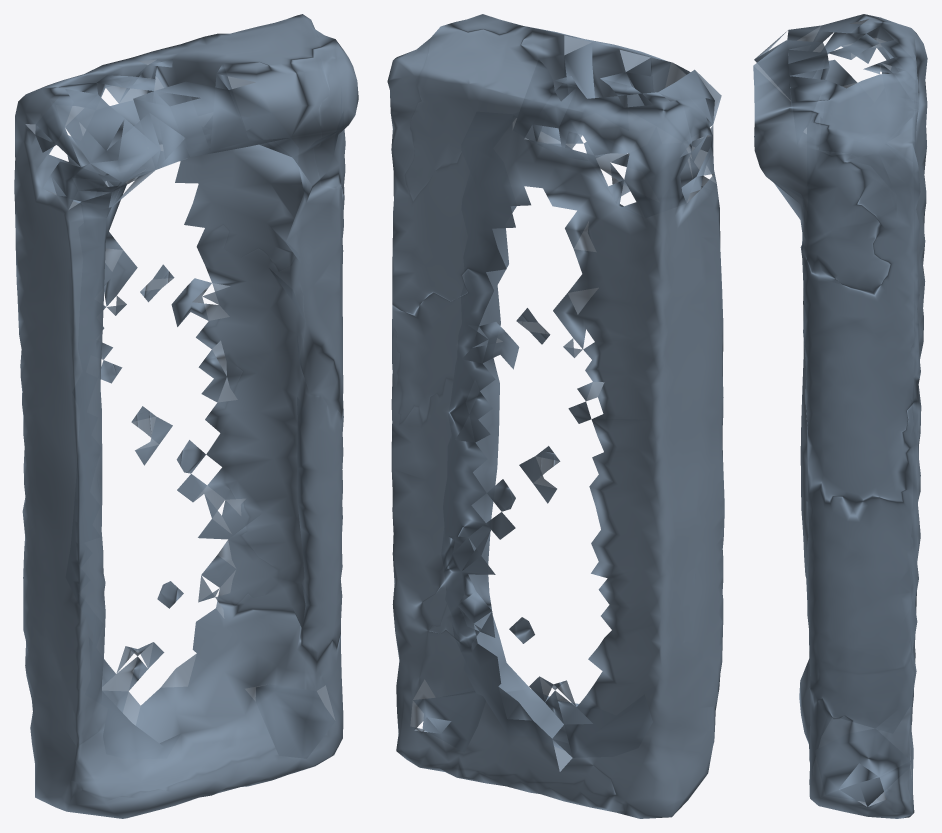
The model's file is bathtub_0021_recon.obj.
3 renders of one model, left to right at view 1: azimuth 30°, elevation 25°; view 2: azimuth 150°, elevation 25°; view 3: azimuth 270°, elevation 25°, orthographic. The views are drawn at different scales.
Size of the model in its own units: 0.7546 by 1.8 by 0.4099.
